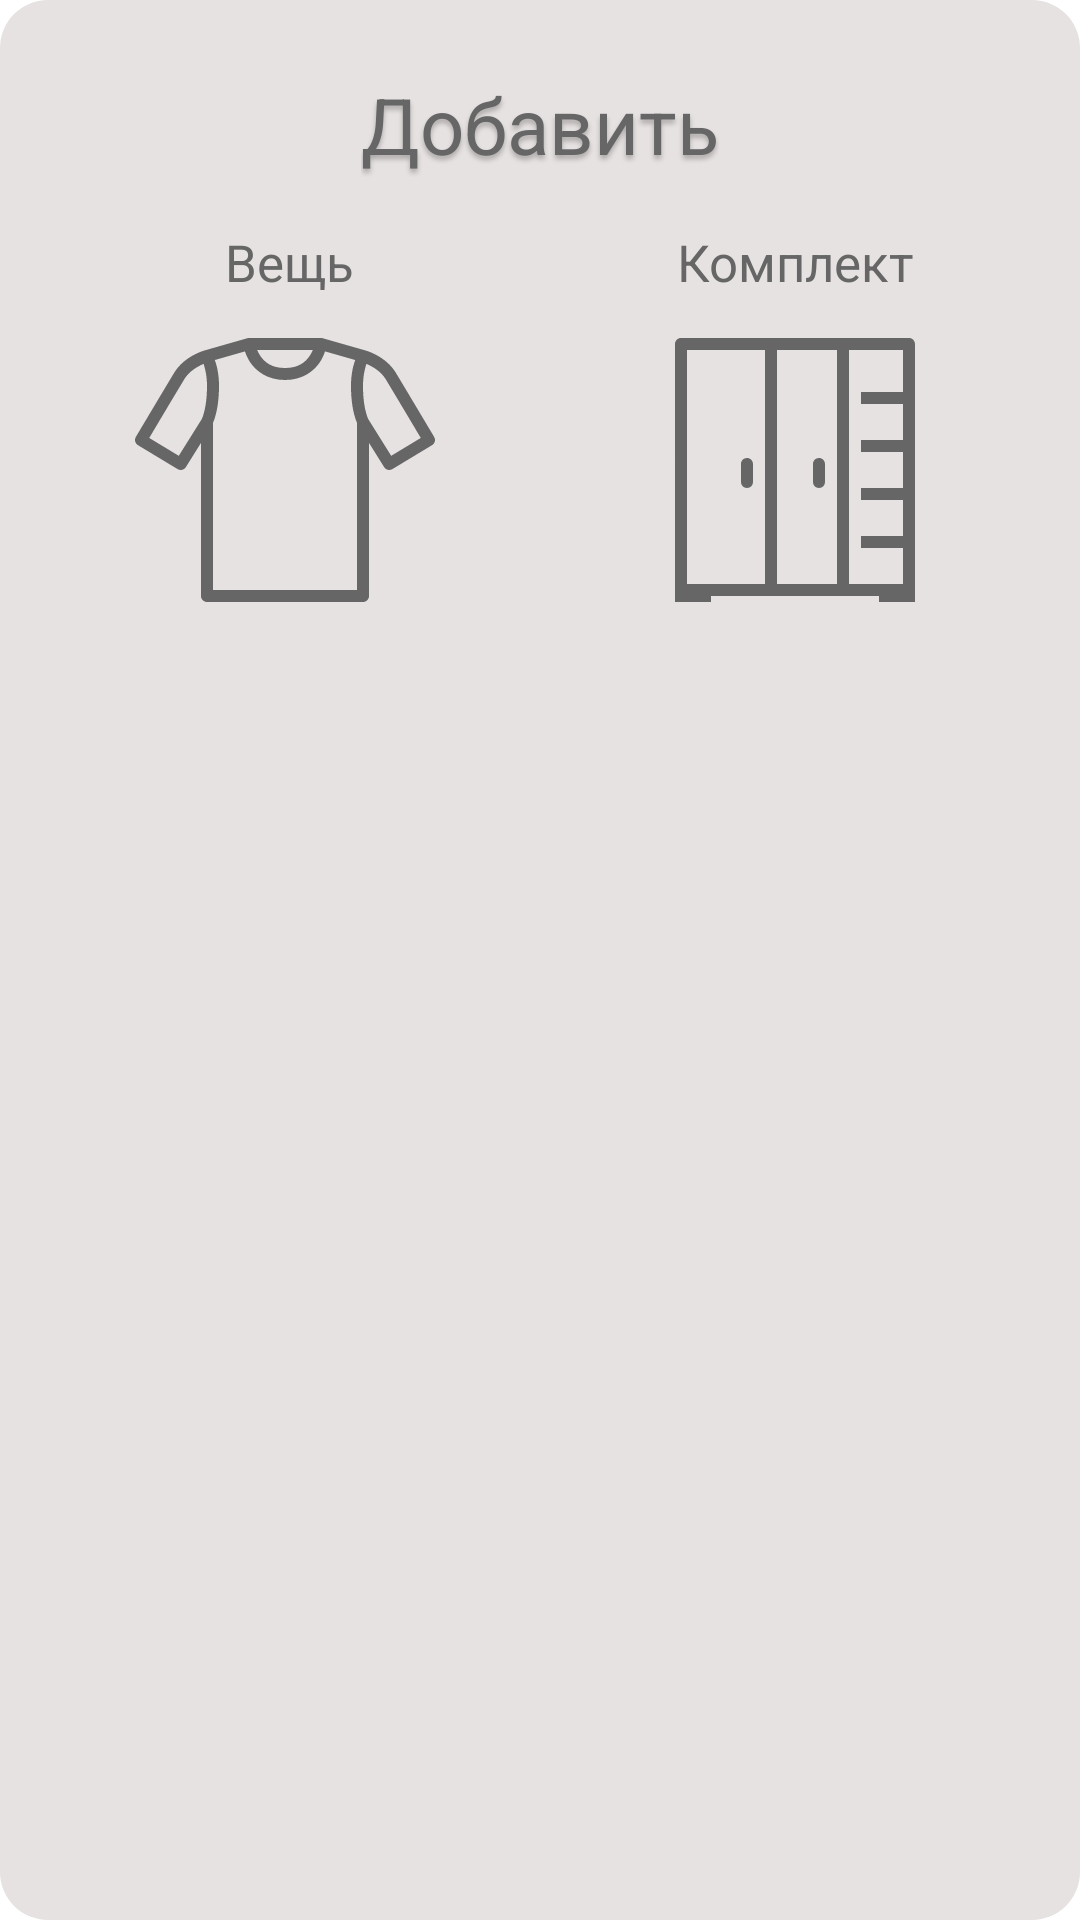

Named icons in this screenshot (1080 x 1920) and their centers, point (x, y):
shirt: point (285, 470)
wardrobe: point (795, 470)
